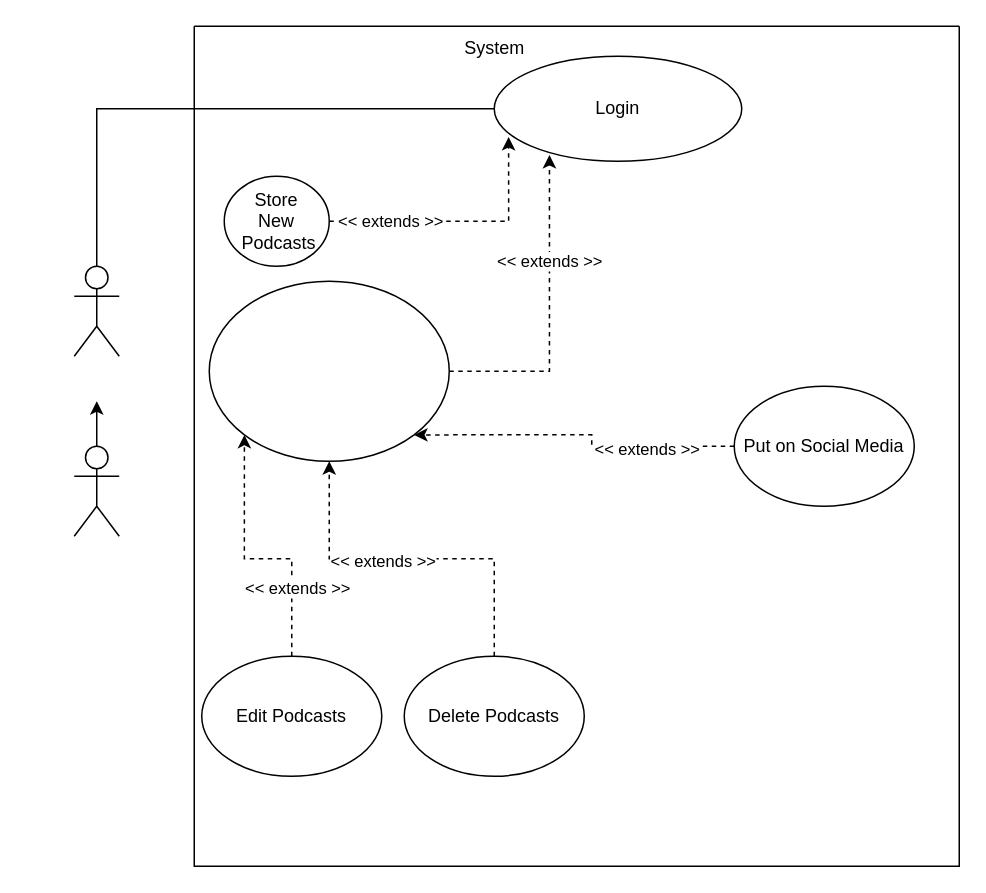
This 986x893 diagram has some shape labels left out. Here are the shapes that lost their labels. From the top down, the centre of each, then its label:
At [96,310]: "Podcaster".
At [328,370]: "View Podcasts".
At [96,490]: "Podcast Manager".
